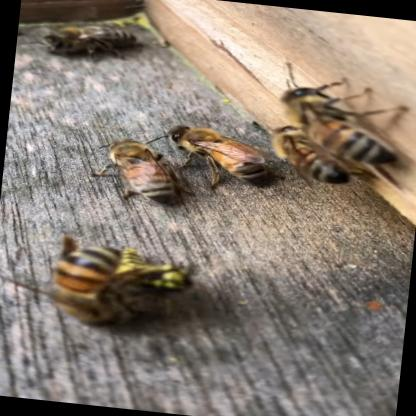bee: (93, 92, 262, 216), (250, 69, 416, 195), (0, 229, 118, 328), (16, 23, 150, 66)
hornet: (113, 234, 210, 313)
